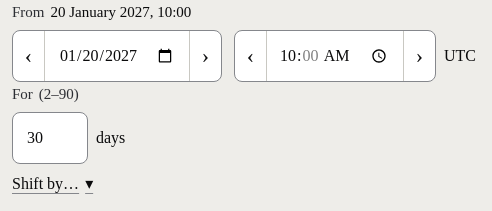
Test case: PeriodControls › keeps a cleared time box or a length out of bounds until the box is left, then shows the period again and says why
Earlier steps of the test are not shown.
Expected: the time field named "Landing time, UTC" holds "10:00", [267,31,403,81]
Replace the text in the number field labelled "For" with "1": (50, 138) [12,112,88,164]
Leave the number field labelled "For", box [12,112,88,164]
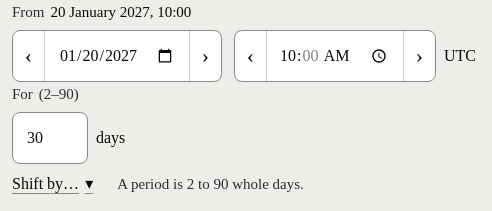
Expected: the number field labelled "For" holds "30"
Expected: the message reads "A period is 2 to 90 whole days.", [117,176,304,192]
Replace the text in the number field labelled "For" with "91": (50, 138) [12,112,88,164]
Leave the number field labelled "For", box [12,112,88,164]
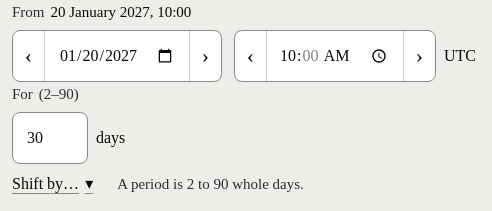
Expected: the message reads "A period is 2 to 90 whole days.", [117,176,304,192]
Expected: the number field labelled "For" holds "30"
Replace the text in the number field labelled "For" with "7.5": (50, 138) [12,112,88,164]
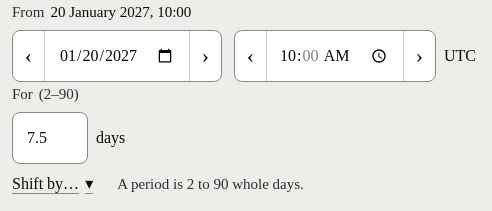
Leave the number field labelled "For", box [12,112,88,164]
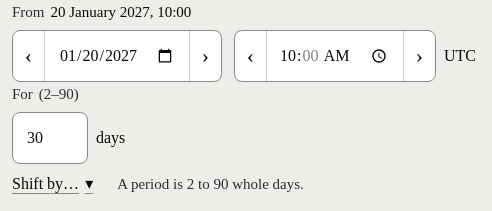
Expected: the message reads "A period is 2 to 90 whole days.", [117,176,304,192]
Expected: the number field labelled "For" holds "30"
Replace the text in the number field labelled "For" with "0": (50, 138) [12,112,88,164]
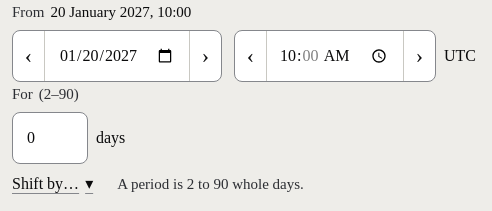
Leave the number field labelled "For", box [12,112,88,164]
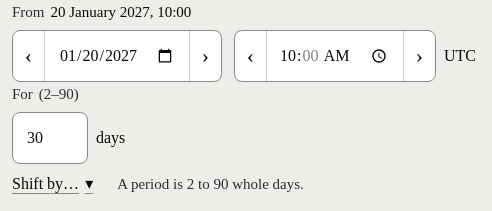
Expected: the message reads "A period is 2 to 90 whole days.", [117,176,304,192]
Expected: the number field labelled "For" holds "30", [12,112,88,164]
